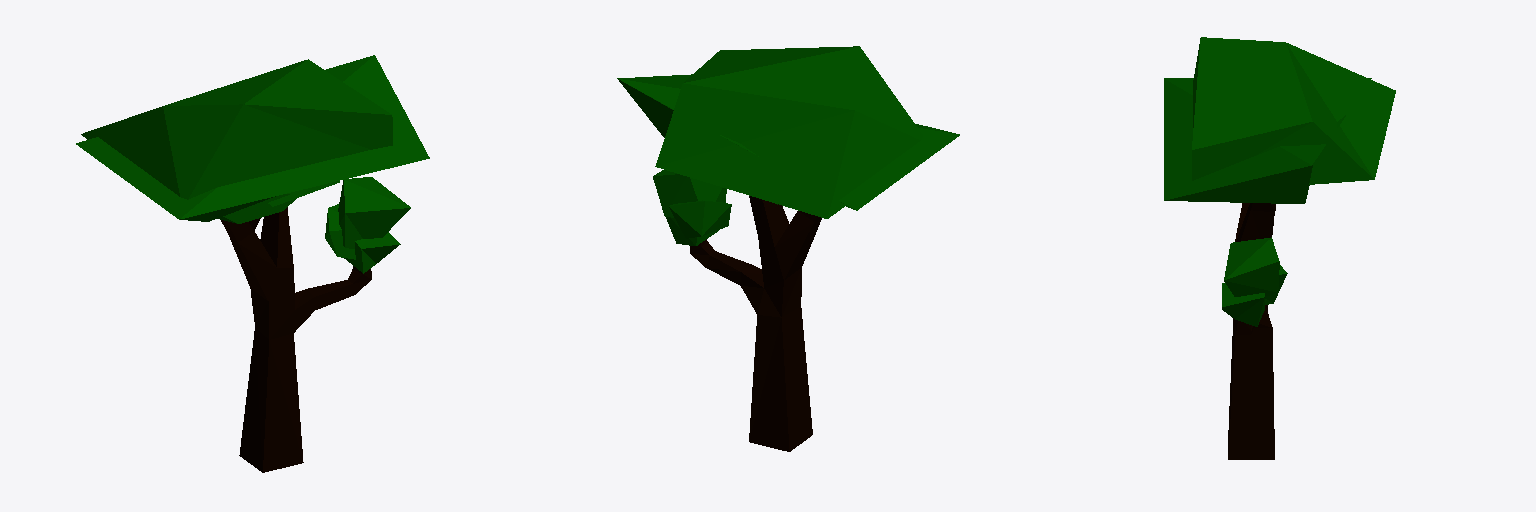
The model's file is tree.obj.
3 views of the same model, side by side, from view 1: azimuth 30°, elevation 25°; view 2: azimuth 150°, elevation 25°; view 3: azimuth 270°, elevation 25° (orthographic).
Parts seen in each view (by area): view 1: Cube.002_Cube.008; view 2: Cube.002_Cube.008; view 3: Cube.002_Cube.008.
Part boxes in pixels (x1,y1,x2,y2): Cube.002_Cube.008: (76,55,429,472); Cube.002_Cube.008: (617,46,959,451); Cube.002_Cube.008: (1164,37,1395,459).
Size of the model in its own units: 5.42 by 7.42 by 4.05.